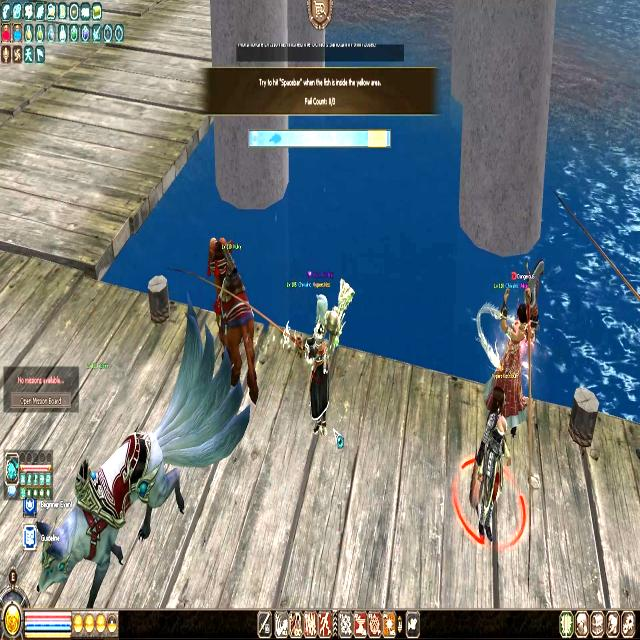fishes: (269, 132, 282, 144)
